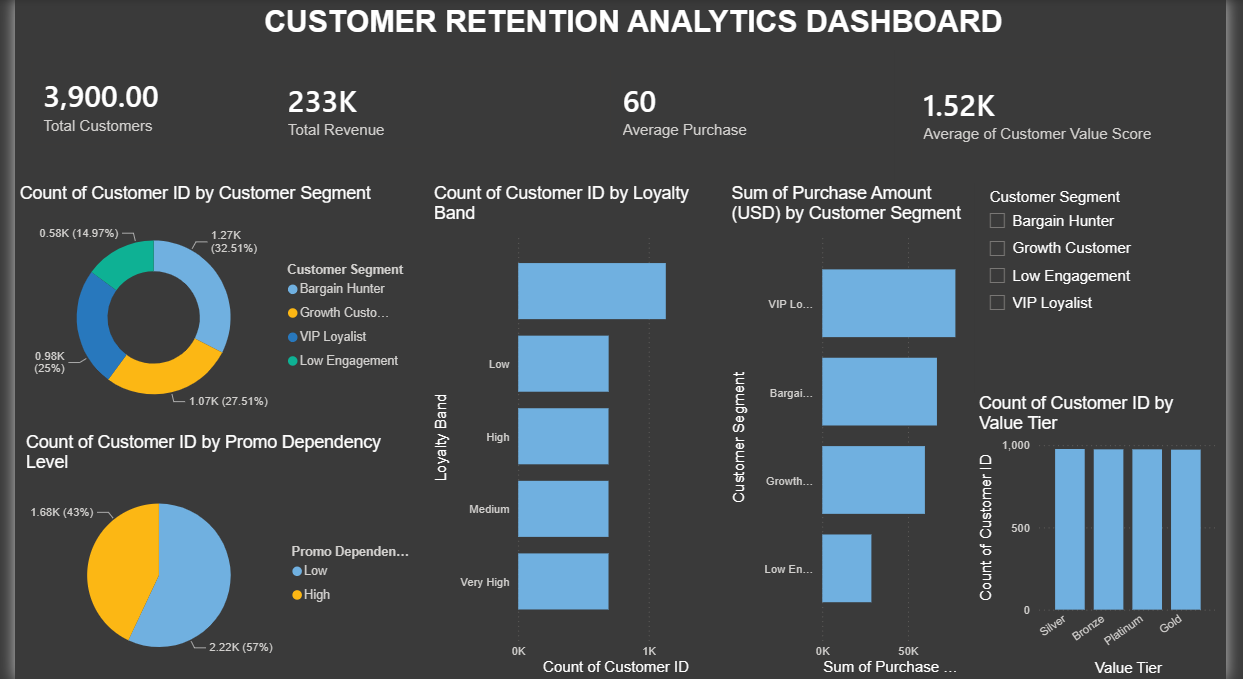

This screenshot's page, from the dashboard's own definition file:
{"tool":"powerbi","page":{"name":"Page 1","canvas":[1280,720],"ordinal":0},"visuals":[{"type":"cardVisual","fields":{"Data":["CountNonNull(customer_features.Customer ID)"]},"box":[0,50,258,122],"z":0},{"type":"cardVisual","fields":{"Data":["Sum(customer_features.Purchase Amount (USD))"]},"box":[258,54,354,122],"z":1000},{"type":"cardVisual","fields":{"Data":["Avg(customer_features.Purchase Amount (USD))"]},"box":[612,54,318,122],"z":2000},{"type":"donutChart","fields":{"Category":["customer_features.Customer Segment"],"Y":["CountNonNull(customer_features.Customer ID)"]},"box":[0,194,430,264],"z":3000},{"type":"clusteredBarChart","fields":{"Category":["customer_features.Customer Segment"],"Y":["Sum(customer_features.Purchase Amount (USD))"]},"box":[752,194,262,526],"z":4000},{"type":"clusteredBarChart","fields":{"Y":["CountNonNull(customer_features.Customer ID)"],"Category":["customer_features.Loyalty Band"]},"box":[438,194,314,526],"z":5000},{"type":"clusteredColumnChart","fields":{"Category":["customer_features.Value Tier"],"Y":["CountNonNull(customer_features.Customer ID)"]},"box":[1014,416,262,304],"z":6000},{"type":"pieChart","fields":{"Category":["customer_features.Promo Dependency Level"],"Y":["CountNonNull(customer_features.Customer ID)"]},"box":[6,458,424,262],"z":7000},{"type":"slicer","fields":{"Values":["customer_features.Customer Segment"]},"box":[1018,194,262,222],"z":8000},{"type":"cardVisual","fields":{"Data":["Avg(customer_features.Customer Value Score)"]},"box":[930,44,346,150],"z":9000},{"type":"textbox","box":[258,0,818,54],"z":10000}]}

Visuals, with their boxes in screenshot pixels (x1, y1, x2, y2), scaled from the page's 1280x720 canvas onto the 1243x679 screenshot:
cardVisual - CountNonNull(customer_features.Customer ID): (left=0, top=47, right=251, bottom=162)
cardVisual - Sum(customer_features.Purchase Amount (USD)): (left=251, top=51, right=594, bottom=166)
cardVisual - Avg(customer_features.Purchase Amount (USD)): (left=594, top=51, right=903, bottom=166)
donutChart - customer_features.Customer Segment x CountNonNull(customer_features.Customer ID): (left=0, top=183, right=418, bottom=432)
clusteredBarChart - customer_features.Customer Segment x Sum(customer_features.Purchase Amount (USD)): (left=730, top=183, right=985, bottom=678)
clusteredBarChart - CountNonNull(customer_features.Customer ID) x customer_features.Loyalty Band: (left=425, top=183, right=730, bottom=678)
clusteredColumnChart - customer_features.Value Tier x CountNonNull(customer_features.Customer ID): (left=985, top=392, right=1239, bottom=678)
pieChart - customer_features.Promo Dependency Level x CountNonNull(customer_features.Customer ID): (left=6, top=432, right=418, bottom=678)
slicer - customer_features.Customer Segment: (left=989, top=183, right=1242, bottom=392)
cardVisual - Avg(customer_features.Customer Value Score): (left=903, top=41, right=1239, bottom=183)
textbox: (left=251, top=0, right=1045, bottom=51)
